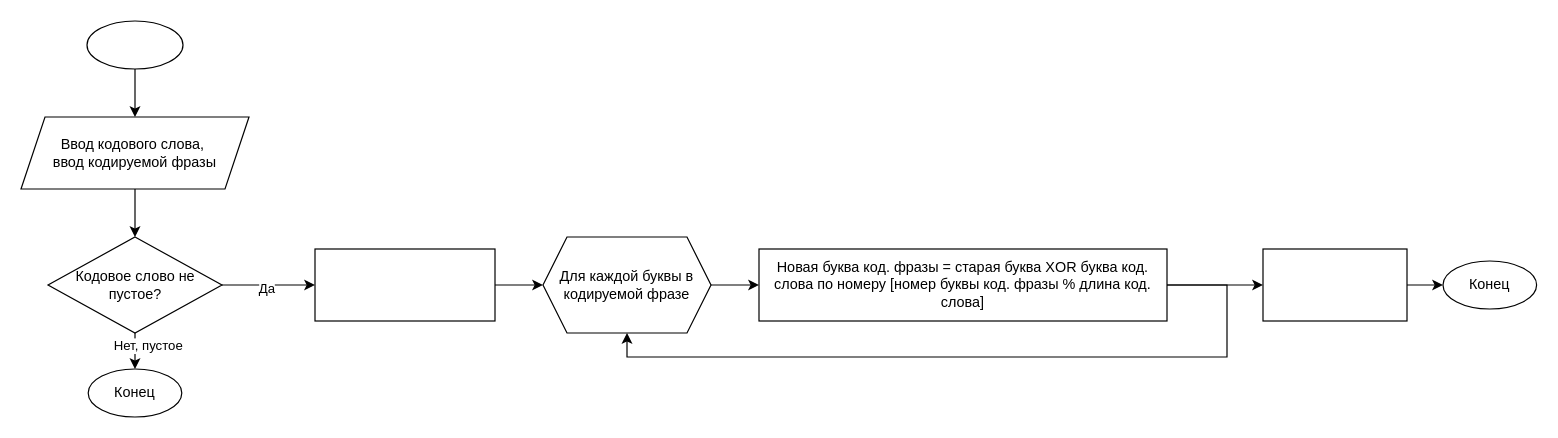
Image size: 1558x438. Some labels were removed from this diagram. The shapes that lost their labels are listed below. From the top down, each one's centre as x and y in pixels, then its label:
At [134,44]: "Начало".
At [404,284]: "Новый массив из кодируемой фразы".
At [1334,284]: "Возвращаем массив с результатом как строку".
